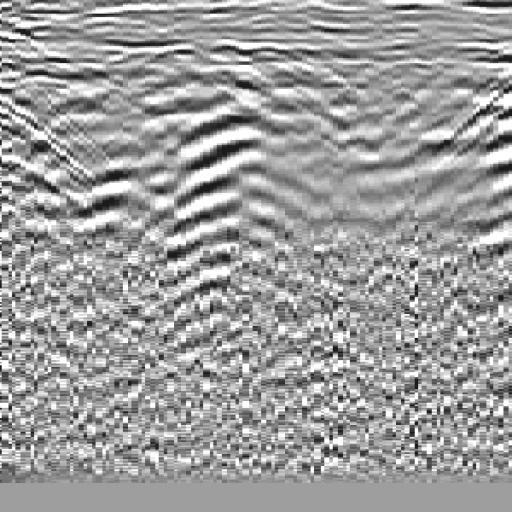metalic: (66, 54, 196, 311)
nonmetalic: (416, 67, 512, 321)
